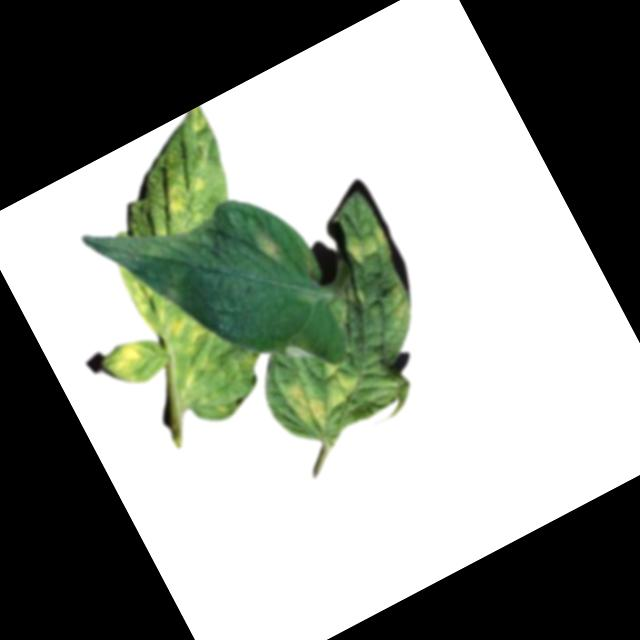Leaf_Mold: (115, 245, 232, 401), (276, 349, 371, 438), (152, 163, 213, 222), (98, 336, 155, 389), (340, 222, 391, 266), (380, 282, 416, 325), (255, 232, 287, 269), (179, 105, 213, 139)
